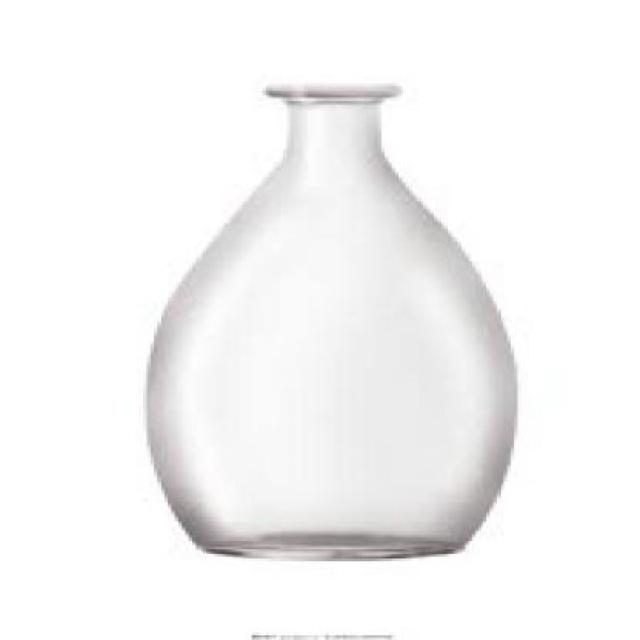kaca: (140, 85, 514, 557)
